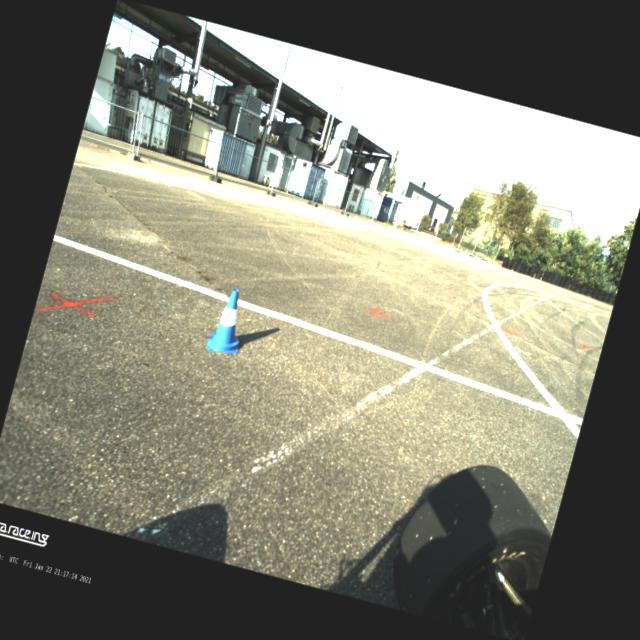blue_cone: (205, 285, 252, 357)
